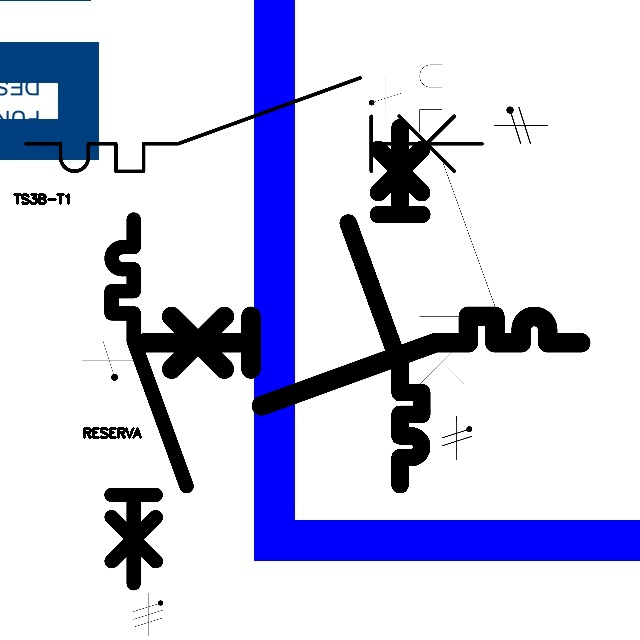interruptor_termomagnetico: (14, 66, 493, 183), (133, 305, 591, 417), (410, 27, 505, 416), (102, 210, 195, 593), (339, 118, 431, 494)
